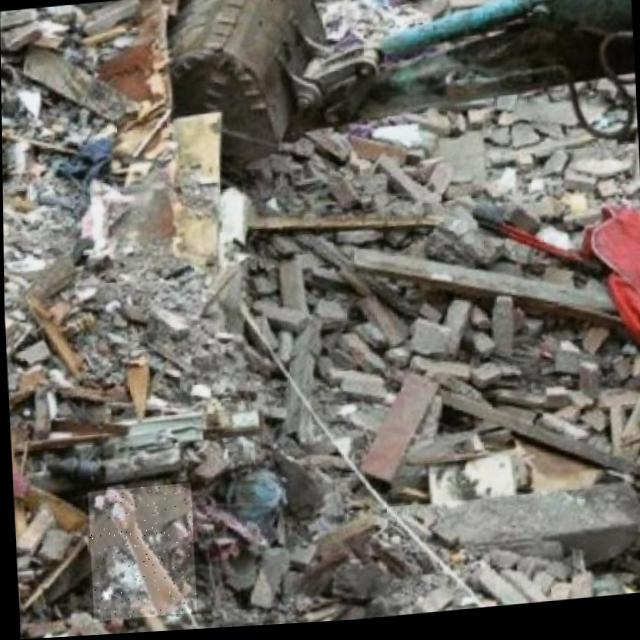Person in Rubble: (86, 484, 195, 623)
